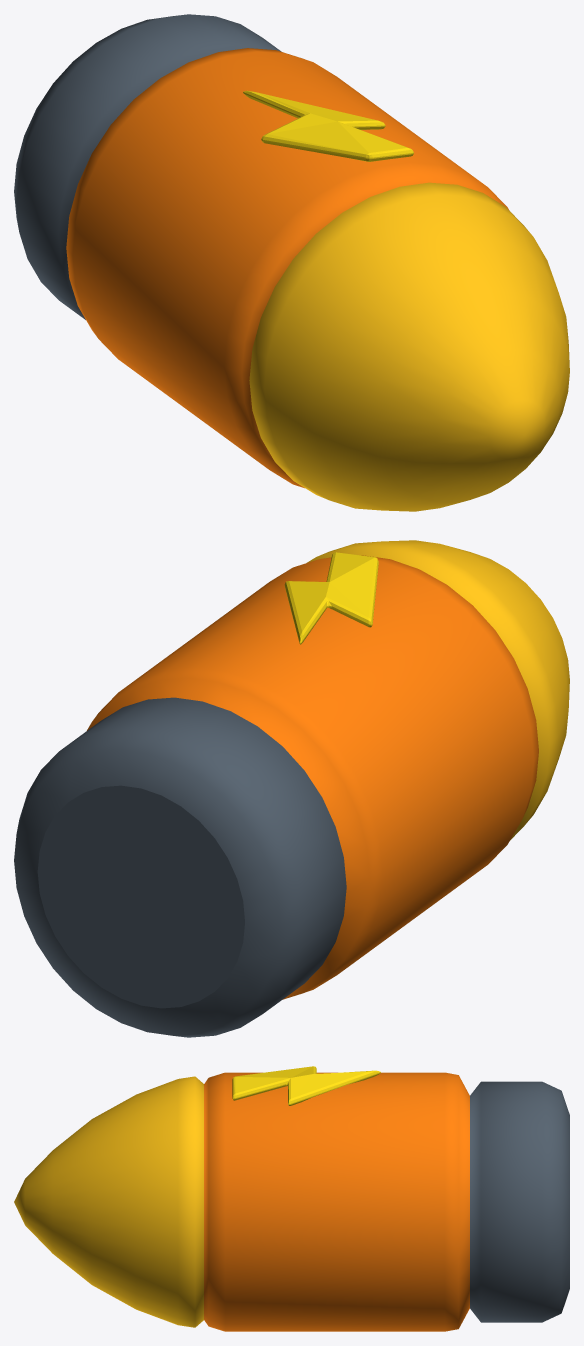
Rendered from power.glb.
3 renders of one model, top to bottom at view 1: azimuth 30°, elevation 25°; view 2: azimuth 150°, elevation 25°; view 3: azimuth 270°, elevation 25°, orthographic. The views are drawn at different scales.
Visible parts, largest first — view 1: Projectile, LightningEmblem; view 2: Projectile, LightningEmblem; view 3: Projectile, LightningEmblem.
Boxes of the visible parts, x1,y1,x2,y2 form: Projectile: (14, 14, 569, 511); LightningEmblem: (243, 90, 413, 161); Projectile: (14, 540, 569, 1037); LightningEmblem: (284, 552, 378, 644); Projectile: (14, 1072, 569, 1331); LightningEmblem: (232, 1066, 380, 1105).
Bounding box in the file's own units: 0.126 × 0.1303 × 0.27.
